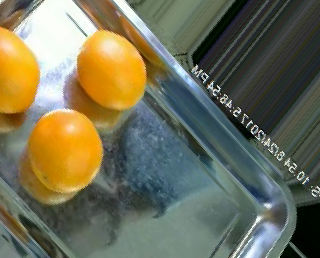Orange: (29, 108, 104, 192), (76, 29, 147, 110)
